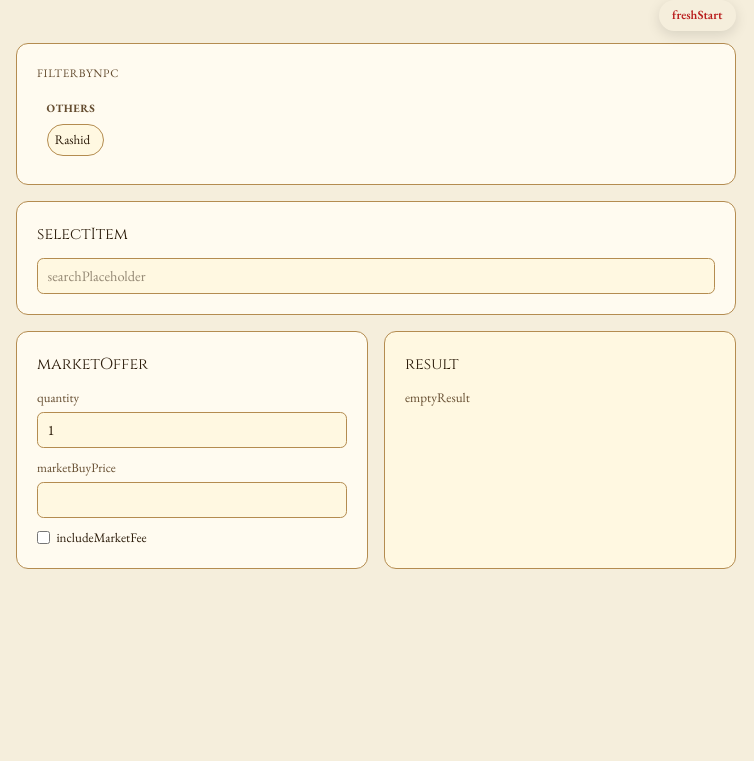
Test case: TradeCalculator › clears cart
Type "gold" into the field with placeholder "searchPlaceholder" at [376, 276], box top-left (37, 258), bottom-right (715, 294)
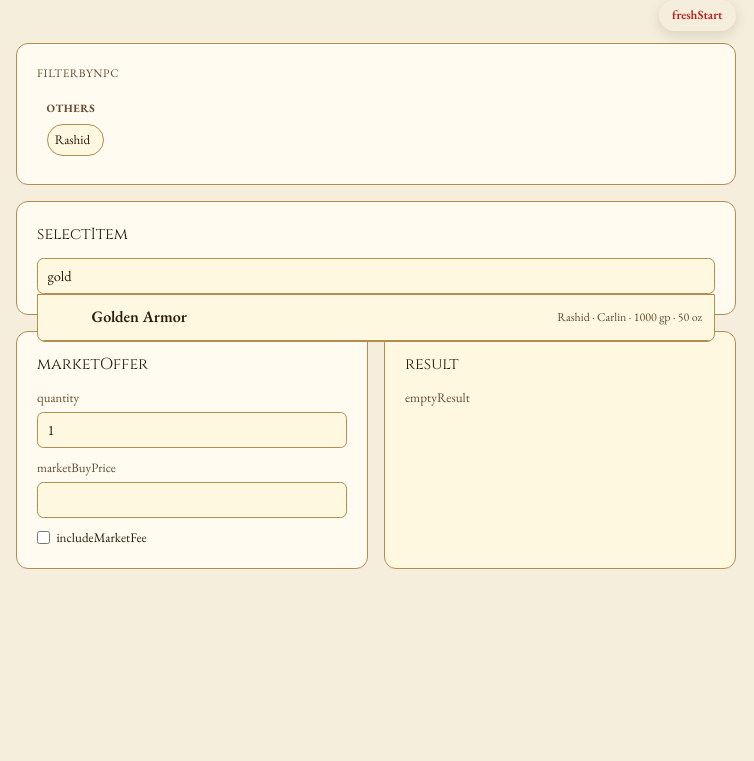
Click the text "Golden Armor" at [139, 317], box top-left (92, 306), bottom-right (187, 327)
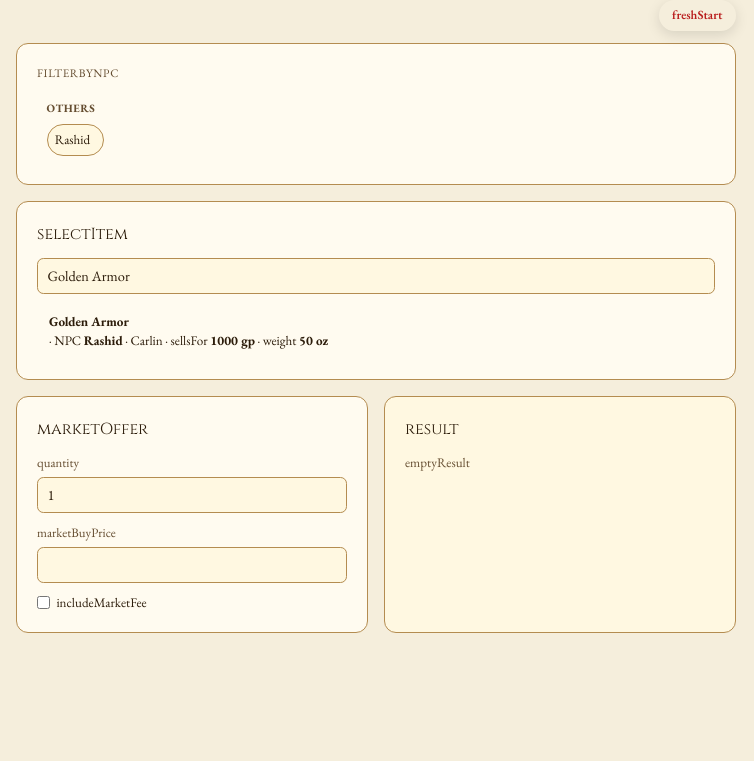
Type "1000" into the number field labelled "marketBuyPrice" at [192, 565], box top-left (37, 547), bottom-right (347, 583)
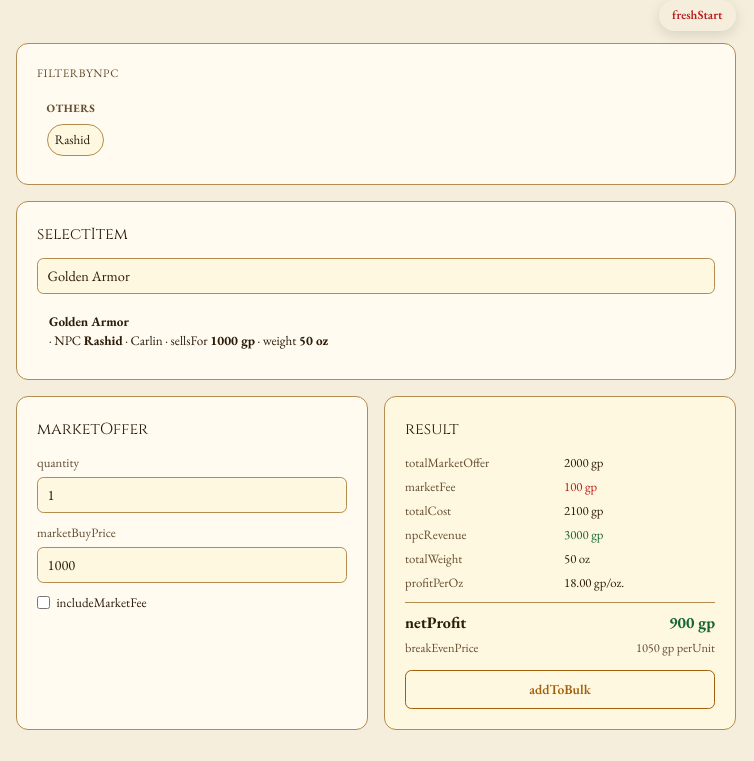
Click the button "addToBulk" at [560, 689], box top-left (405, 670), bottom-right (715, 708)
(page scrolled)
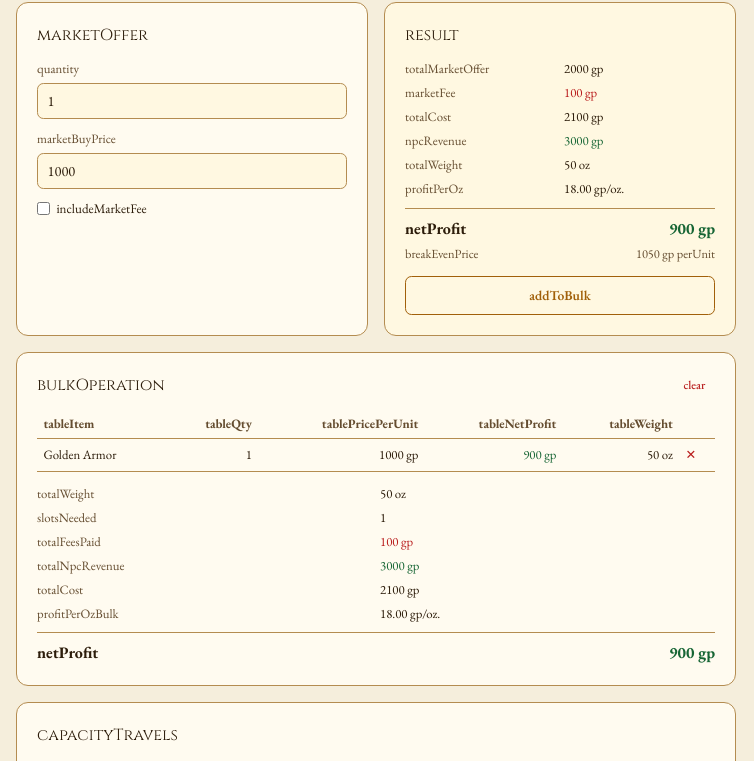
Now the heading "bulkOperation" is shown, box top-left (37, 373), bottom-right (165, 397)
Click the button "clear" at [694, 385], box top-left (674, 372), bottom-right (715, 397)
(page scrolled)
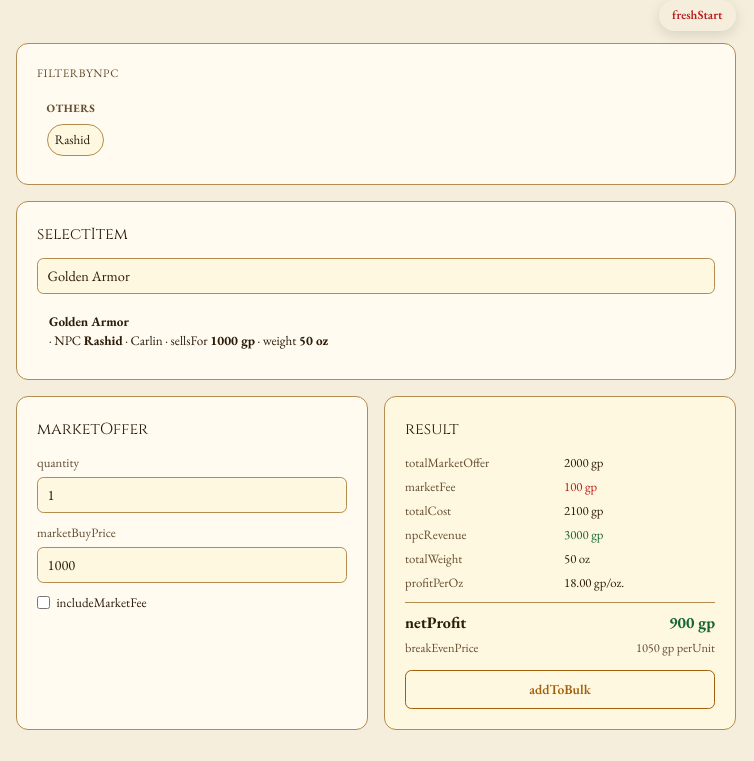
Now the heading "bulkOperation" is gone
Now the heading "capacityTravels" is gone
